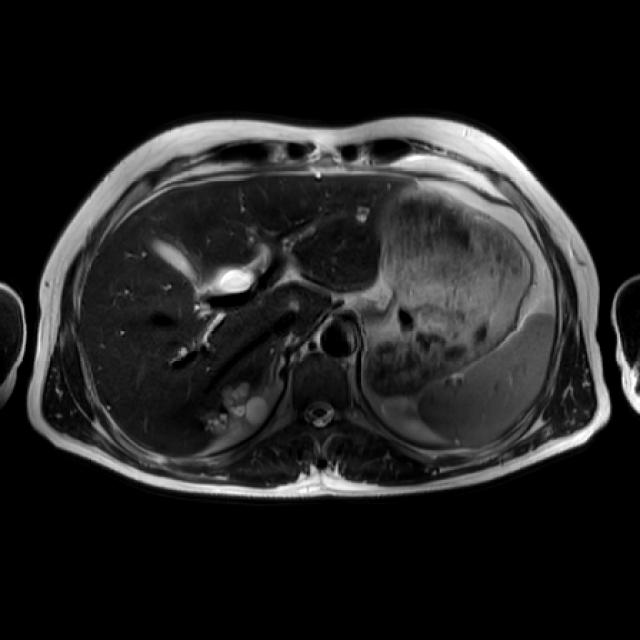sag: (206, 383, 269, 435)
sol: (385, 397, 426, 435)
